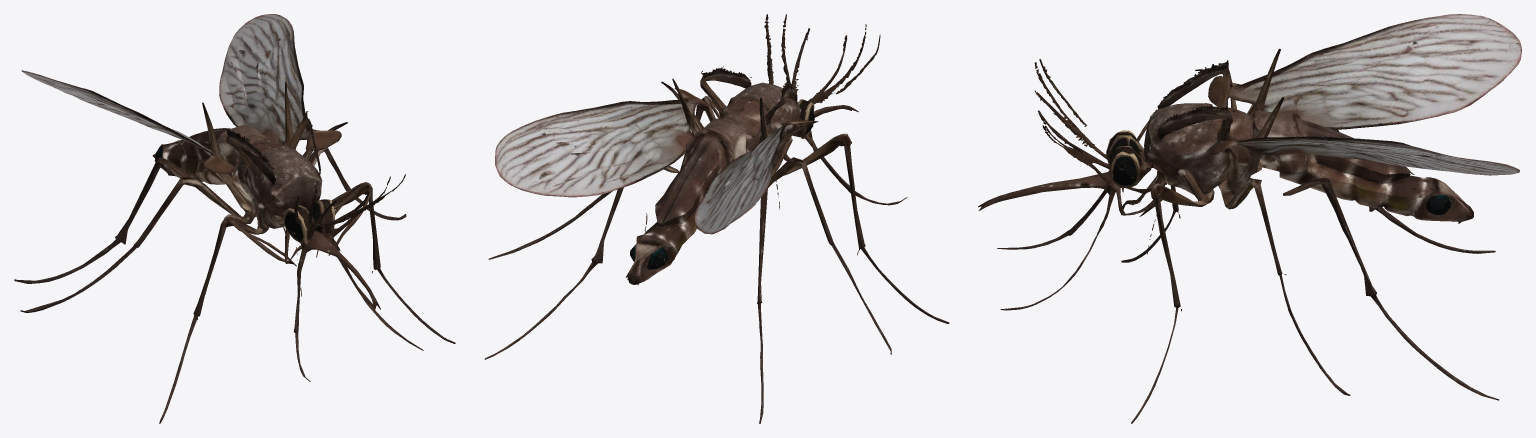
3 renders of one model, left to right at view 1: azimuth 30°, elevation 25°; view 2: azimuth 150°, elevation 25°; view 3: azimuth 270°, elevation 25°, orthographic. The views are drawn at different scales.
Parts seen in each view (by area): view 1: geometry_0; view 2: geometry_0; view 3: geometry_0.
Part boxes in pixels (x1,y1,x2,y2): geometry_0: [14, 14, 455, 423]; geometry_0: [484, 14, 949, 423]; geometry_0: [978, 14, 1521, 423].
Size of the model in its own units: 0.8725 by 0.5214 by 0.9312.
Materials: 1 (1 with a texture image).
